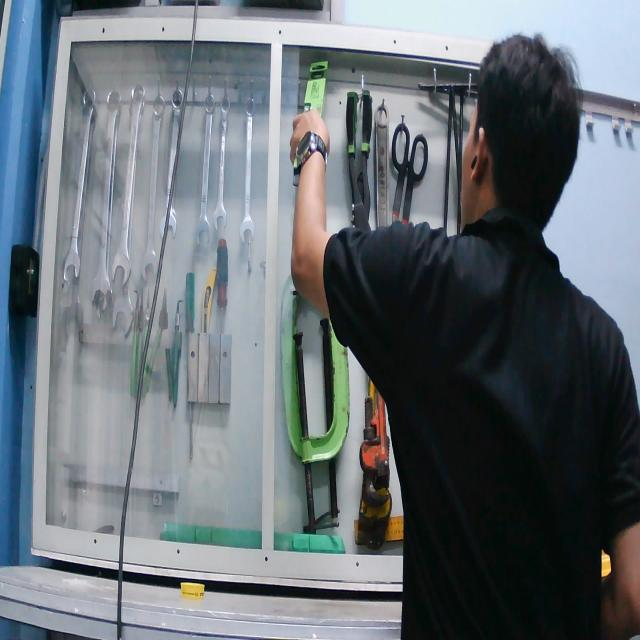water_pass: (294, 49, 330, 174)
